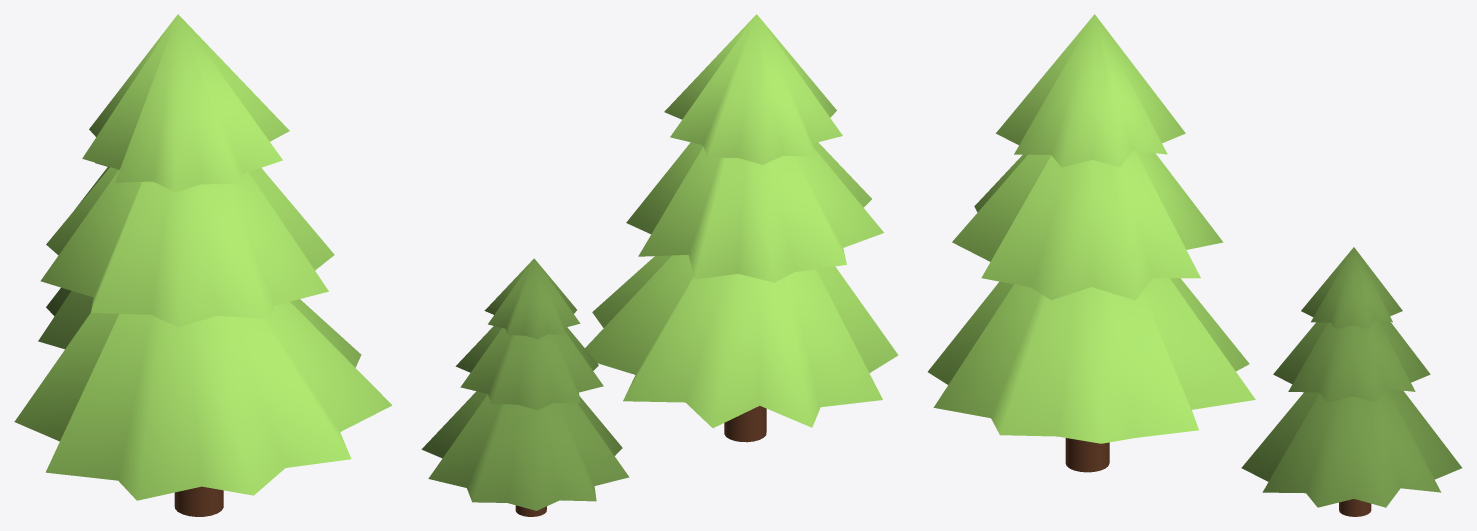
The model's file is pineTrees.glb.
3 renders of one model, left to right at view 1: azimuth 30°, elevation 25°; view 2: azimuth 150°, elevation 25°; view 3: azimuth 270°, elevation 25°, orthographic. The views are drawn at different scales.
Visible parts, largest first — view 1: BigTree, LittleTree, BigTreeTrunk; view 2: BigTree, LittleTree, BigTreeTrunk; view 3: BigTree, LittleTree, BigTreeTrunk.
Boxes of the visible parts, bbox=[...] form: BigTree: bbox=[14, 14, 392, 500]; LittleTree: bbox=[38, 162, 109, 349]; BigTreeTrunk: bbox=[174, 486, 223, 516]; BigTree: bbox=[585, 14, 898, 427]; LittleTree: bbox=[421, 258, 629, 510]; BigTreeTrunk: bbox=[724, 406, 766, 442]; BigTree: bbox=[928, 14, 1255, 443]; LittleTree: bbox=[1241, 247, 1461, 507]; BigTreeTrunk: bbox=[1065, 438, 1109, 472].
Bounding box in the file's own units: 6.65 × 8.64 × 9.41.
